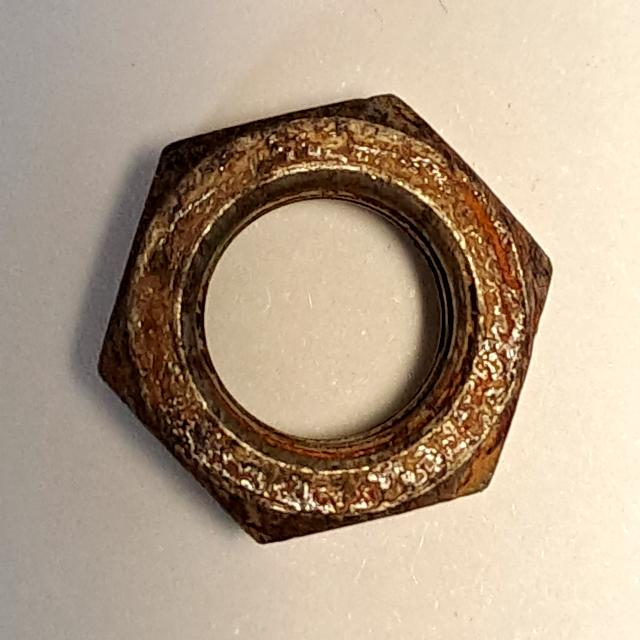Rust: (83, 85, 564, 558)
